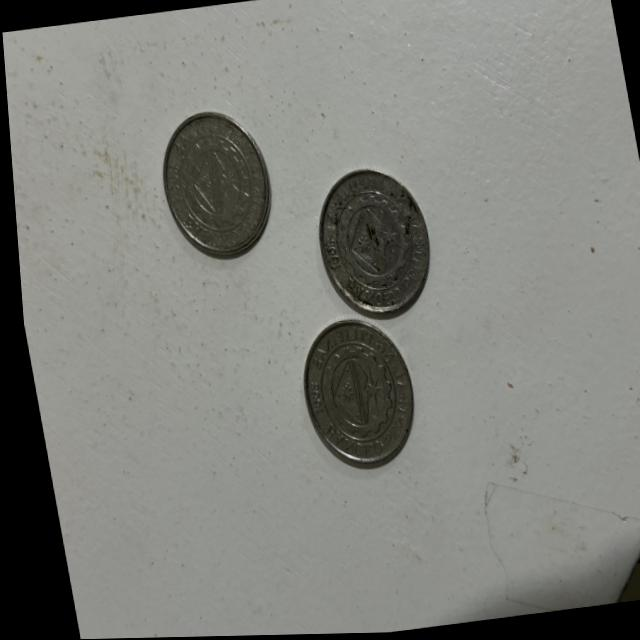1_Old_Back: (317, 188, 413, 307), (165, 122, 259, 242), (303, 334, 399, 450)
